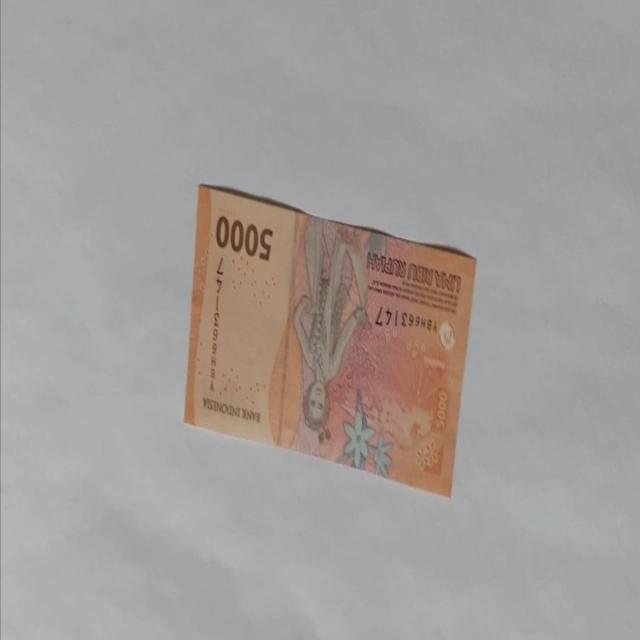lima ribu rupiah: (182, 182, 478, 498)
